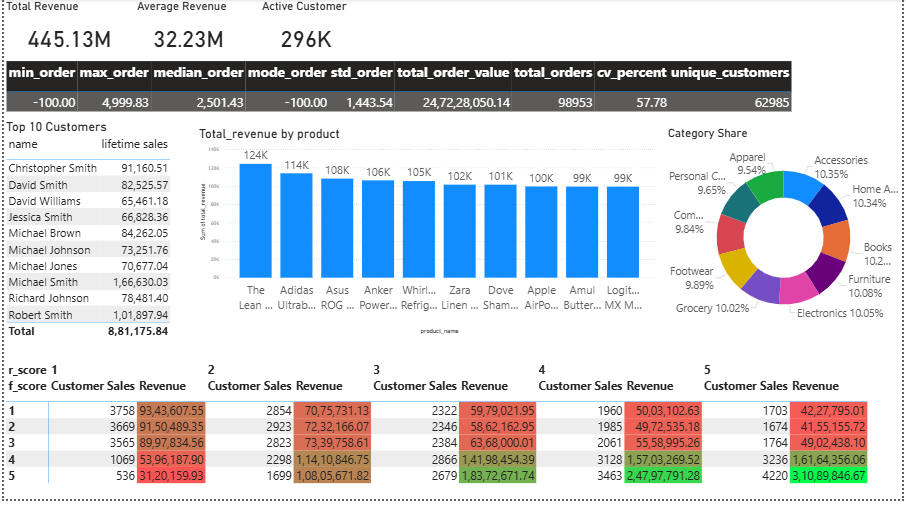

What the dashboard file says about the page in this screenshot:
{"tool":"powerbi","page":{"name":"customer & product insight","canvas":[2153,1200],"ordinal":0},"visuals":[{"type":"pivotTable","fields":{"Rows":["public vw_customer_rfm.f_score"],"Columns":["public vw_customer_rfm.r_score"],"Values":["public vw_customer_rfm.customer_id","public vw_customer_rfm.monetary"]},"box":[0,864,2136,336],"z":1000},{"type":"card","title":"Average Revenue","fields":{"Values":["public vw_productcust (2).avg_revenue"]},"box":[314.4,0,256.8,144],"z":3000},{"type":"card","title":"Active Customer","fields":{"Values":["public vw_productcust (2).unique_customers"]},"box":[614.4,0,220.8,144],"z":4000},{"type":"card","title":"Total Revenue","fields":{"Values":["public vw_productcust (2).total_revenue"]},"box":[0,0,314.4,144],"z":5000},{"type":"tableEx","fields":{"Values":["public vw_statics.min_order","public vw_statics.max_order","public vw_statics.median_order","public vw_statics.mode_order","public vw_statics.std_order","public vw_statics.total_order_value","public vw_statics.total_orders","public vw_statics.cv_percent","public vw_statics.unique_customers"]},"box":[0,144,1903.2,144],"z":6000},{"type":"tableEx","title":"Top 10 Customers","fields":{"Values":["public vw_customer_rfm.name","public vw_customer_rfm.monetary"]},"box":[0,288,427.2,556.8],"z":6001},{"type":"clusteredColumnChart","title":"Total_revenue by product","fields":{"Category":["public vw_productcust (2).product_name"],"Y":["public vw_productcust (2).total_revenue"]},"box":[463.2,304.8,1106.4,504],"z":6002},{"type":"donutChart","title":"Category Share","fields":{"Category":["public vw_productcust (2).category"],"Y":["public vw_productcust (2).total_quantity"]},"box":[1588.8,304.8,564,504],"z":6003}]}

Visuals, with their boxes in screenshot pixels (x1, y1, x2, y2), scaled from the page's 2153x1200 canvas onto the 906x506 screenshot:
pivotTable - public vw_customer_rfm.f_score x public vw_customer_rfm.r_score: locate(0, 364, 899, 505)
"Average Revenue" card: locate(132, 0, 240, 61)
"Active Customer" card: locate(259, 0, 351, 61)
"Total Revenue" card: locate(0, 0, 132, 61)
tableEx - public vw_statics.min_order x public vw_statics.max_order: locate(0, 61, 801, 121)
"Top 10 Customers" tableEx: locate(0, 121, 180, 356)
"Total_revenue by product" clusteredColumnChart: locate(195, 129, 661, 341)
"Category Share" donutChart: locate(669, 129, 905, 341)
